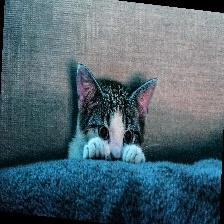kedo: (70, 63, 156, 161)
